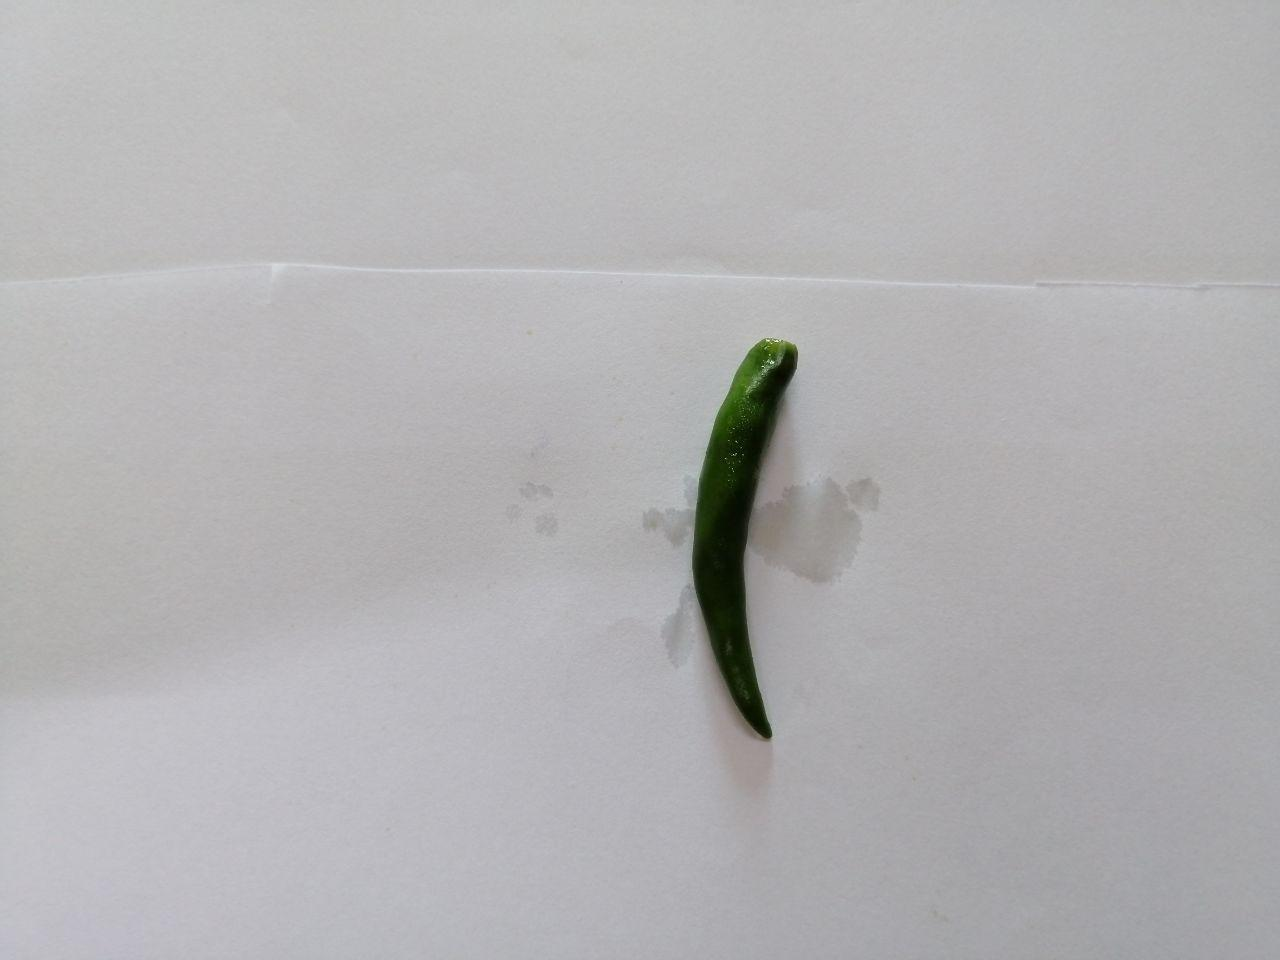lada hijau: (687, 322, 819, 765)
